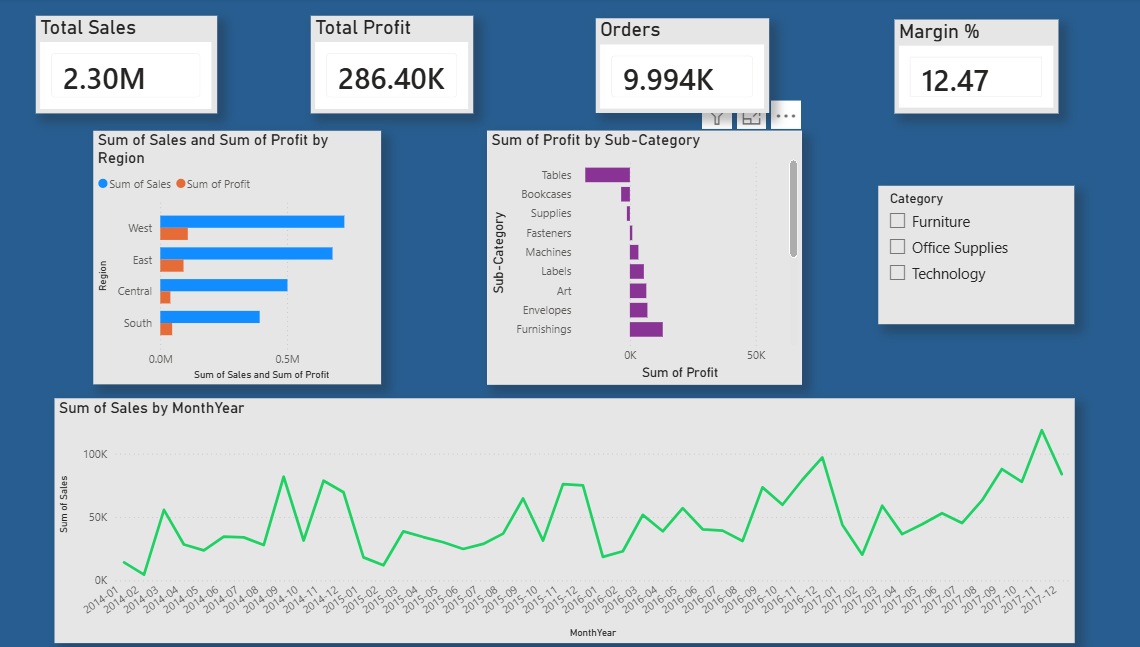

This screenshot's page, from the dashboard's own definition file:
{"tool":"powerbi","page":{"name":"Page 1","canvas":[1280,720],"ordinal":0},"visuals":[{"type":"clusteredBarChart","fields":{"Category":["superstore.Region"],"Y":["Sum(superstore.Sales)","Sum(superstore.Profit)"]},"box":[105.7,146.8,315.6,278.6],"z":0},{"type":"clusteredBarChart","fields":{"Category":["superstore.Sub-Category"],"Y":["Sum(superstore.Profit)"]},"box":[537.9,146.8,345.8,278.6],"z":1000},{"type":"lineChart","fields":{"Y":["Sum(superstore.Sales)"],"Category":["superstore.MonthYear"]},"box":[63.1,440.5,1119.7,269],"z":2000},{"type":"cardVisual","title":"Total Sales","fields":{"Data":["Sum(superstore.Sales)"]},"box":[42.5,20.6,199,107],"z":3000},{"type":"cardVisual","title":"Total Profit","fields":{"Data":["Sum(superstore.Profit)"]},"box":[344.4,20.6,178.4,107],"z":4000},{"type":"cardVisual","title":"Orders","fields":{"Data":["CountNonNull(superstore.Order ID)"]},"box":[657.3,23.3,190.7,104.3],"z":5000},{"type":"cardVisual","title":"Margin %","fields":{"Data":["superstore.Profit Margin %"]},"box":[985.3,24.7,179.8,102.9],"z":6000},{"type":"slicer","fields":{"Values":["superstore.Category"]},"box":[967.4,207.2,215.4,152.3],"z":6001}]}

Visuals, with their boxes in screenshot pixels (x1, y1, x2, y2), scaled from the page's 1280x720 canvas onto the 1140x647 screenshot:
clusteredBarChart - superstore.Region x Sum(superstore.Sales): (94, 132, 375, 382)
clusteredBarChart - superstore.Sub-Category x Sum(superstore.Profit): (479, 132, 787, 382)
lineChart - Sum(superstore.Sales) x superstore.MonthYear: (56, 396, 1053, 638)
"Total Sales" cardVisual: (38, 19, 215, 115)
"Total Profit" cardVisual: (307, 19, 466, 115)
"Orders" cardVisual: (585, 21, 755, 115)
"Margin %" cardVisual: (878, 22, 1038, 115)
slicer - superstore.Category: (862, 186, 1053, 323)
